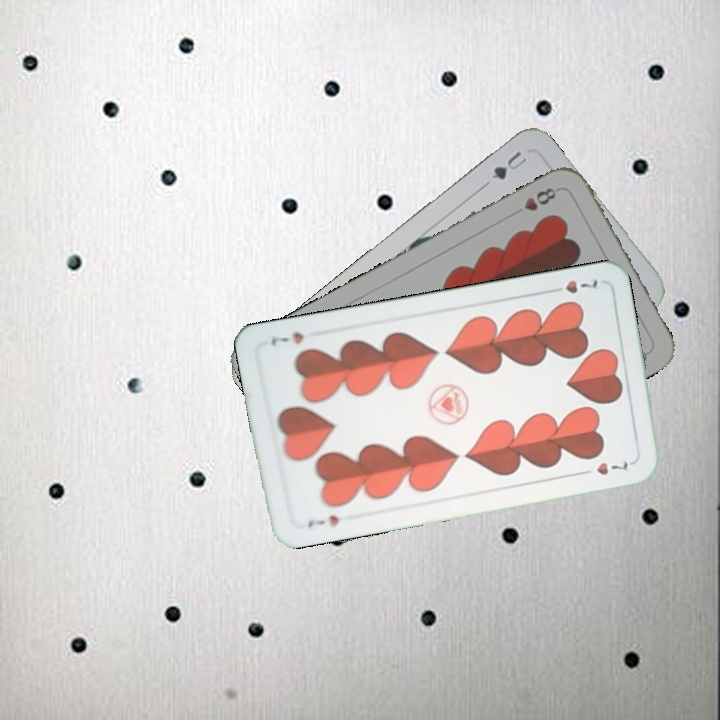GU: (487, 146, 530, 183)
H7: (545, 275, 601, 296), (303, 511, 342, 530)
H8: (520, 183, 559, 214)
